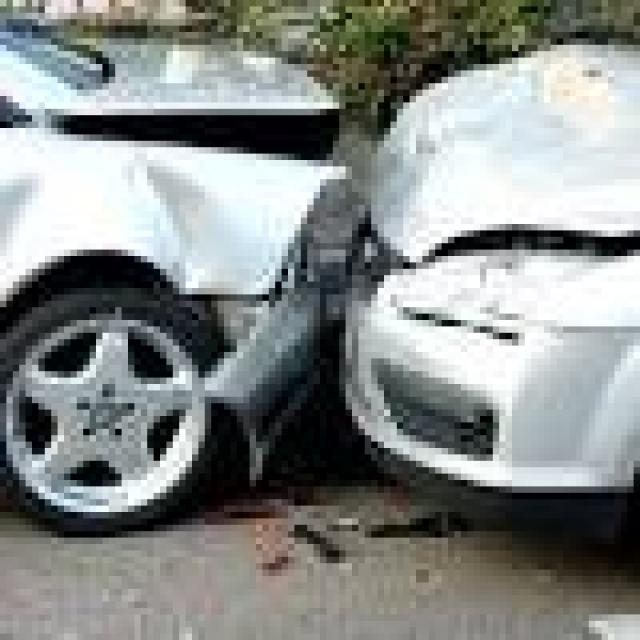accident: (24, 31, 604, 533)
